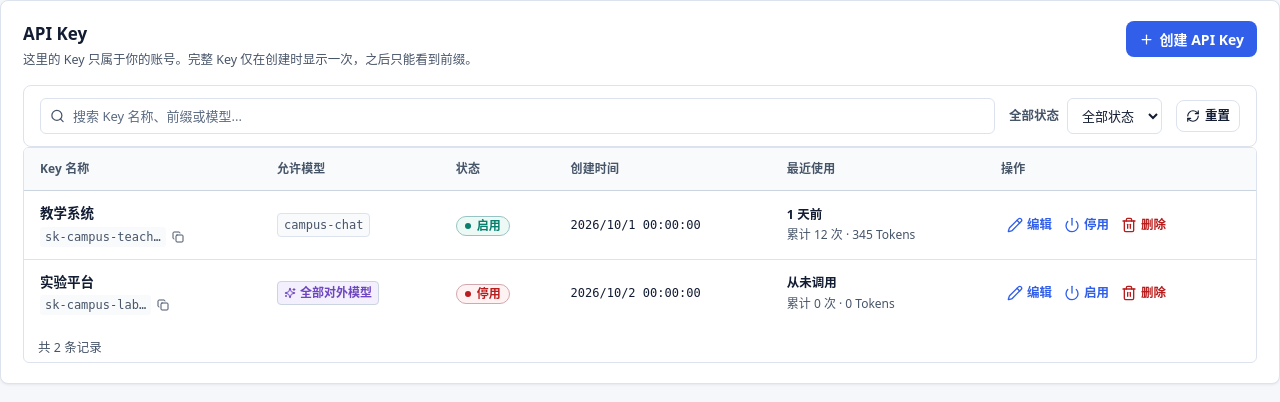
Scenario: personal console API keys › lists the keys the endpoint returned and narrows them by search and status
Expected: the text "教学系统" is shown, [40,204,94,222]
Expected: the text "实验平台" is shown, [40,272,94,290]
Type "实验" into the field with placeholder "搜索 Key 名称、前缀或模型...". click: (518, 116)
box: [40,98,995,134]
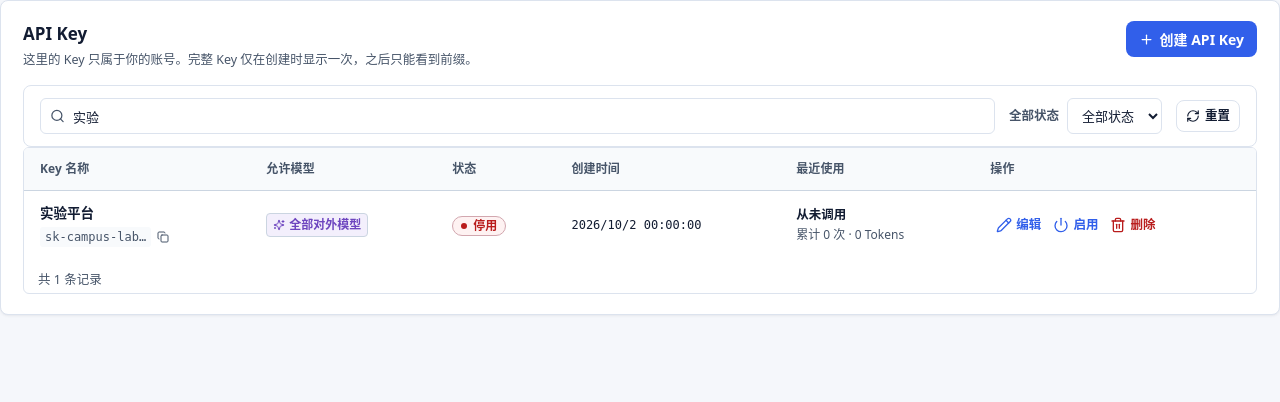
Expected: the text "实验平台" is shown, [40,204,94,222]
Result: the text "教学系统" is gone
Clear the field with placeholder "搜索 Key 名称、前缀或模型...". click: (518, 116)
box: [40,98,995,134]
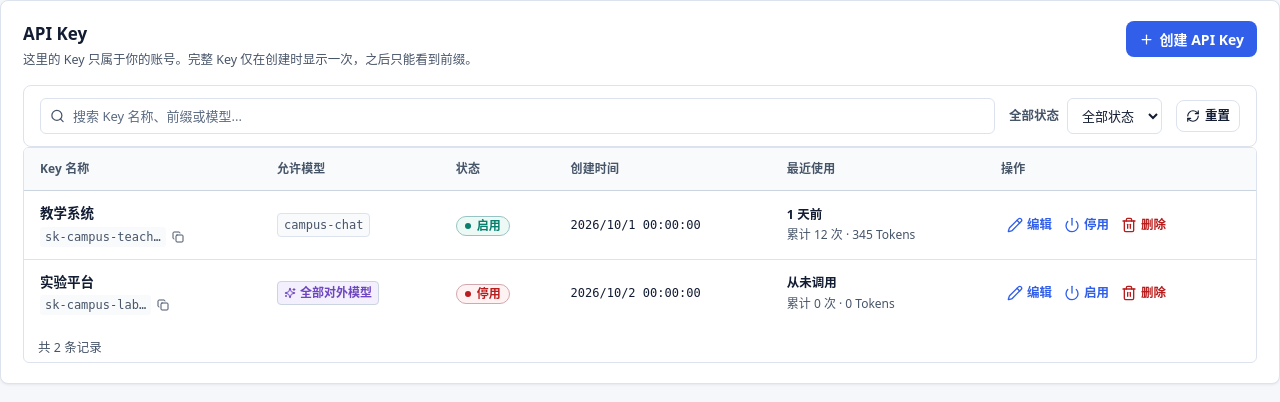
Select "停用" in the dropdown labelled "全部状态". click: (1114, 116)
box: [1067,98,1162,134]
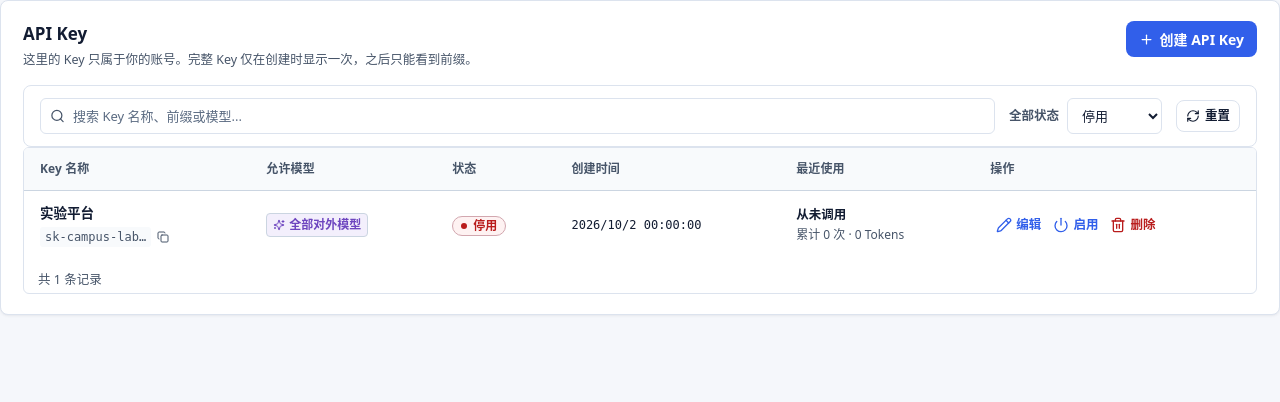
Expected: the text "实验平台" is shown, [40,204,94,222]
Result: the text "教学系统" is gone
Result: the text "共 1 条记录" is shown at [38,270,102,289]
